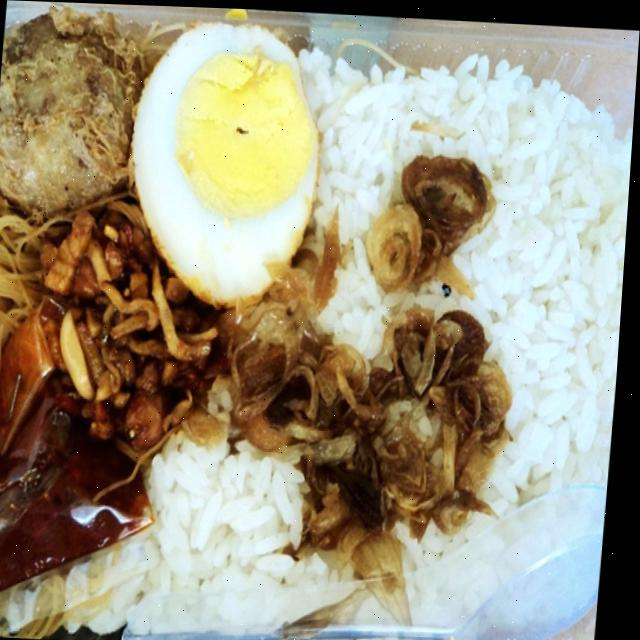米饭主食: (0, 29, 607, 635)
